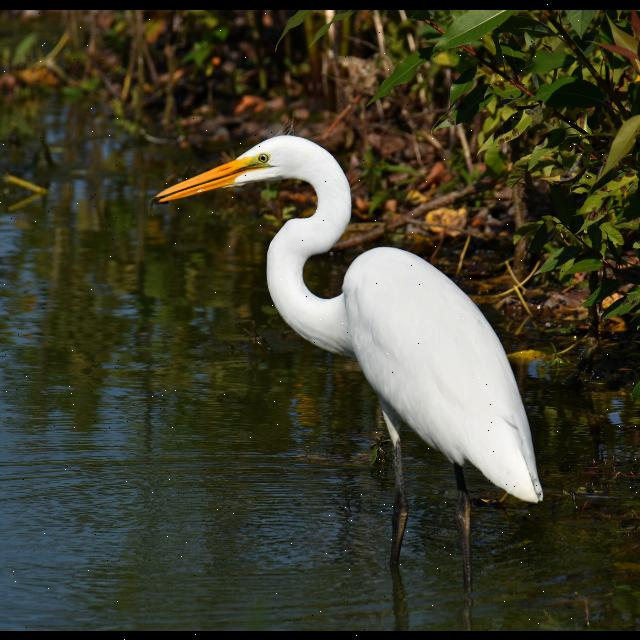egret: (145, 125, 551, 589)
